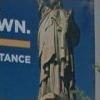Statue: (33, 0, 83, 100)
